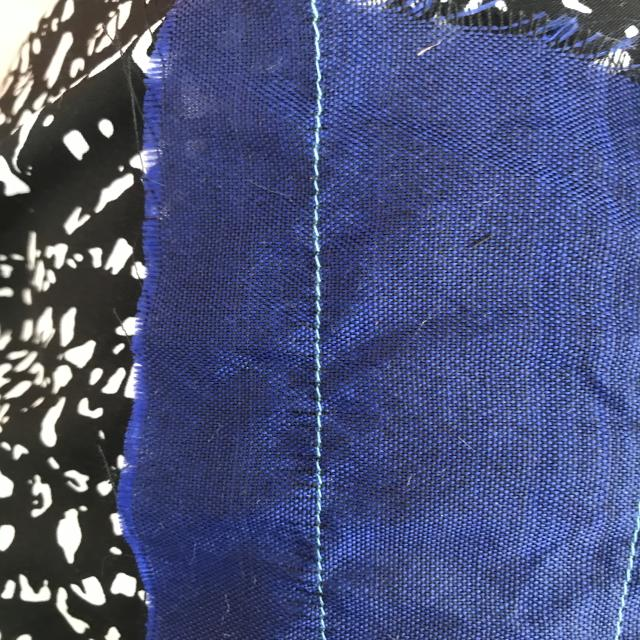good: (301, 301, 336, 550), (302, 74, 333, 252)
